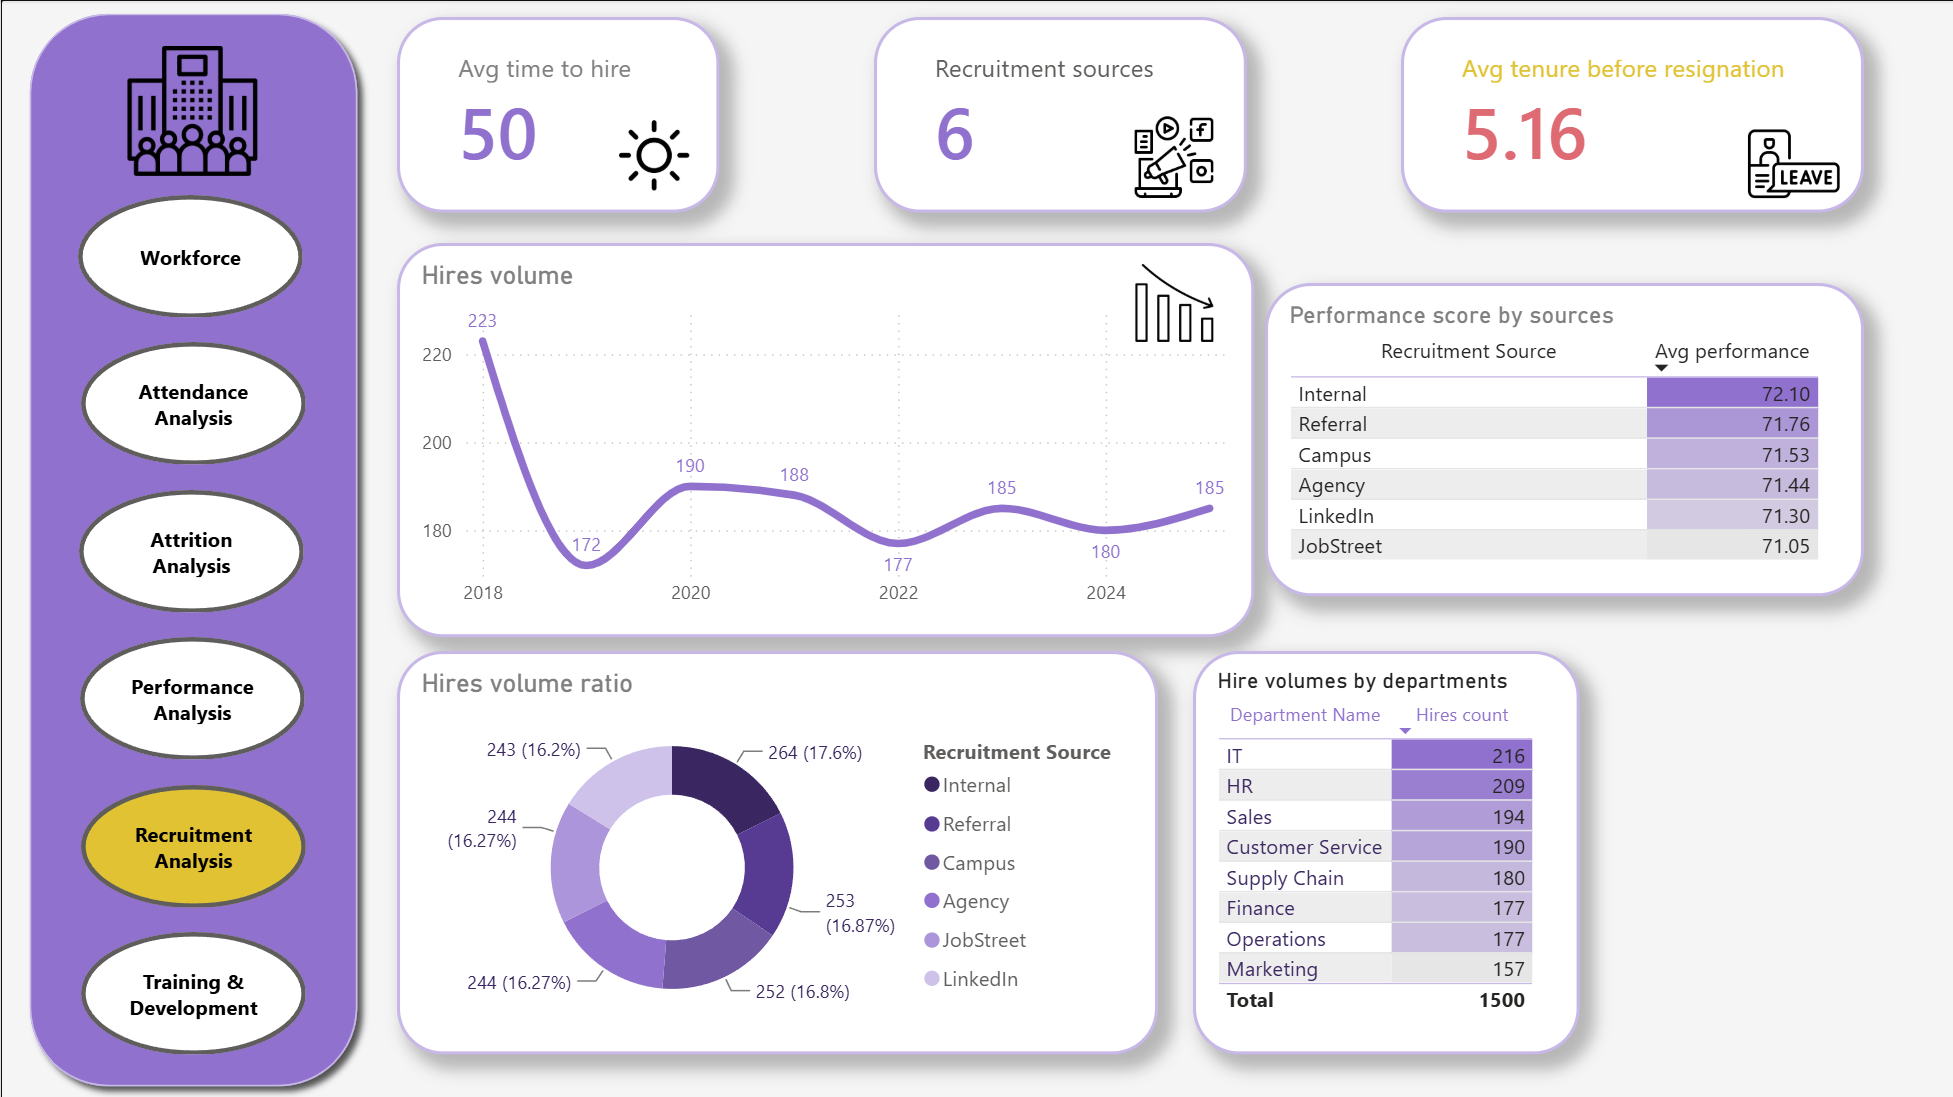

What the dashboard file says about the page in this screenshot:
{"tool":"powerbi","page":{"name":"Recruitment Analysis","canvas":[1280,720],"ordinal":4},"visuals":[{"type":"shape","box":[9.8,0,232.3,719.8],"z":0},{"type":"actionButton","box":[52.1,224.1,147.2,80.5],"z":1000},{"type":"actionButton","box":[50.8,320.5,147.2,80.5],"z":2000},{"type":"actionButton","box":[51.4,417,147.2,80.5],"z":3000},{"type":"actionButton","box":[52.1,513.4,147.2,80.5],"z":4000},{"type":"actionButton","box":[52.4,609.9,147.2,80.5],"z":5000},{"type":"cardVisual","fields":{"Data":["ALL MEASURES.Avg_time_to_hire"]},"box":[259.1,11.1,211.4,127.6],"z":6000},{"type":"lineChart","title":"Hires volume","fields":{"Category":["DateTable.Date.Variation.Date Hierarchy.Year","DateTable.Date.Variation.Date Hierarchy.Month","DateTable.Date.Variation.Date Hierarchy.Day"],"Y":["ALL MEASURES.Hires_count"]},"box":[259.1,159,560.8,257.8],"z":7000},{"type":"tableEx","title":"Hire volumes by departments","fields":{"Values":["Departments.Department Name","ALL MEASURES.Hires_count"]},"box":[780,426,252.6,264.4],"z":8000},{"type":"tableEx","title":"Performance score by sources","fields":{"Values":["Employees.Recruitment Source","ALL MEASURES.Avg_performance_by_source"]},"box":[827.2,185.2,392,204.8],"z":9000},{"type":"actionButton","box":[50.1,127.6,147.2,80.5],"z":10000},{"type":"donutChart","title":"Hires volume ratio","fields":{"Category":["Employees.Recruitment Source"],"Y":["ALL MEASURES.Hires_count"]},"box":[259.1,426,498,264.4],"z":10000,"group":"g1"},{"type":"group","id":"g1","title":"Group 1","box":[259.1,426,498,264.4],"z":11000},{"type":"cardVisual","fields":{"Data":["ALL MEASURES.Early_attrition_rate","ALL MEASURES.Early_attrition_rate"]},"box":[916.2,11.1,303,127.6],"z":12000},{"type":"cardVisual","fields":{"Data":["ALL MEASURES.Recruitment_source_count"]},"box":[571.3,11.1,244.1,127.6],"z":13000},{"type":"image","box":[404.4,72.6,45.8,58.2],"z":14000},{"type":"image","box":[706.1,75.3,123,55.6],"z":15000},{"type":"image","box":[1109.2,77.2,127.6,59.6],"z":16000},{"type":"image","box":[728.3,172.8,78.5,51],"z":17000},{"type":"image","box":[13.7,29.9,222.7,85.3],"z":18000}]}

Visuals, with their boxes in screenshot pixels (x1, y1, x2, y2), scaled from the page's 1280x720 canvas onto the 1953x1097 screenshot:
shape: (15,0,369,1096)
actionButton: (79,341,304,464)
actionButton: (78,488,302,611)
actionButton: (78,635,303,758)
actionButton: (79,782,304,905)
actionButton: (80,929,305,1052)
cardVisual - ALL MEASURES.Avg_time_to_hire: (395,17,718,211)
"Hires volume" lineChart: (395,242,1251,635)
"Hire volumes by departments" tableEx: (1190,649,1576,1052)
"Performance score by sources" tableEx: (1262,282,1860,594)
actionButton: (76,194,301,317)
"Hires volume ratio" donutChart: (395,649,1155,1052)
"Group 1" group: (395,649,1155,1052)
cardVisual - ALL MEASURES.Early_attrition_rate x ALL MEASURES.Early_attrition_rate: (1398,17,1860,211)
cardVisual - ALL MEASURES.Recruitment_source_count: (872,17,1244,211)
image: (617,111,687,199)
image: (1077,115,1265,199)
image: (1692,118,1887,208)
image: (1111,263,1231,341)
image: (21,46,361,176)
